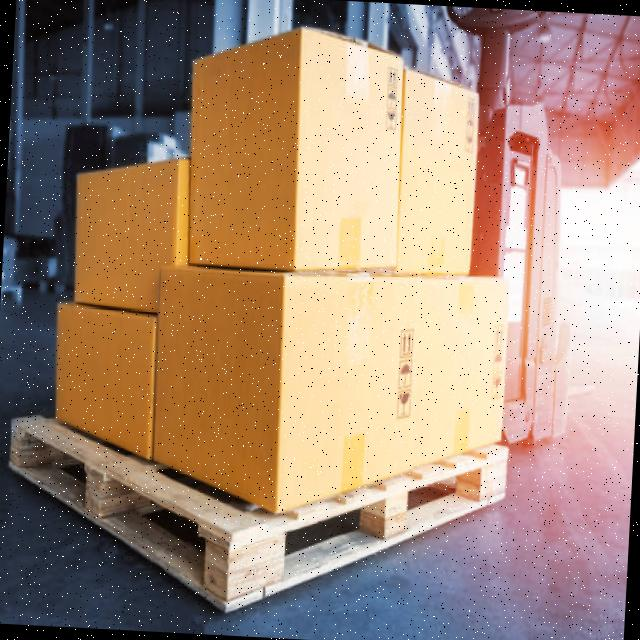Wooden-Pallets: (2, 416, 514, 612)
